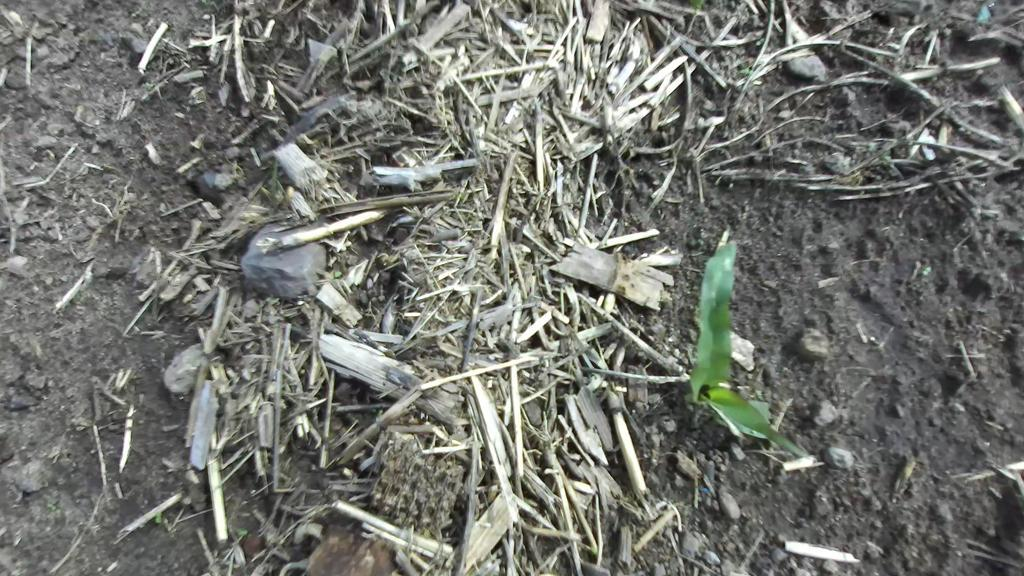BroWeed: (837, 169, 867, 190), (619, 489, 638, 507), (976, 4, 992, 25), (261, 185, 276, 202), (920, 264, 934, 278), (44, 499, 58, 512), (586, 541, 599, 555), (882, 150, 896, 163), (738, 66, 753, 78), (754, 36, 766, 49), (866, 141, 878, 153), (140, 80, 153, 91), (236, 526, 250, 536), (154, 512, 163, 524), (334, 270, 341, 277)
Maize: (640, 239, 808, 487)
